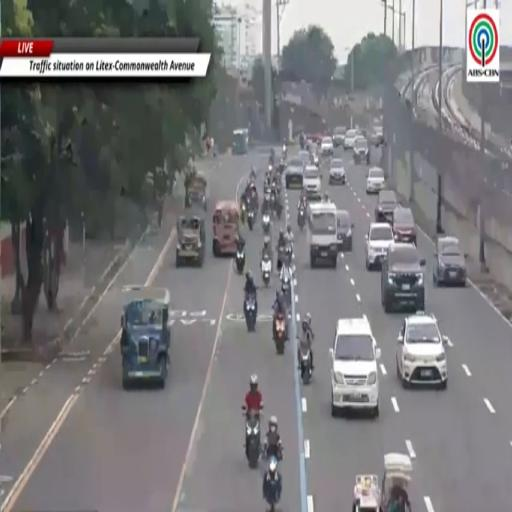car: (330, 317, 381, 417), (397, 312, 448, 389), (381, 243, 425, 312), (307, 202, 338, 268), (432, 236, 467, 287), (366, 222, 393, 269), (392, 206, 416, 245), (374, 189, 399, 223), (337, 210, 354, 251), (303, 165, 321, 200), (285, 157, 303, 188), (366, 167, 386, 194), (353, 136, 370, 165), (329, 158, 346, 184), (343, 129, 360, 150), (333, 126, 345, 148), (372, 126, 384, 147), (321, 137, 333, 155), (298, 150, 310, 166), (310, 149, 319, 166)
jeepney: (120, 286, 170, 389), (381, 453, 412, 511), (176, 210, 205, 267), (213, 201, 239, 257), (352, 475, 381, 511), (186, 172, 207, 211), (232, 130, 248, 154)
motorcycle: (242, 406, 260, 469), (273, 313, 285, 355), (245, 295, 257, 331), (301, 350, 312, 385), (263, 441, 283, 460), (282, 267, 291, 307), (261, 254, 272, 286), (264, 490, 280, 511), (0, 476, 13, 499), (236, 248, 245, 274), (277, 246, 284, 271), (262, 213, 270, 234), (240, 201, 247, 224), (298, 208, 305, 231), (274, 200, 282, 219), (270, 186, 276, 207), (248, 210, 254, 230), (283, 146, 287, 158)
